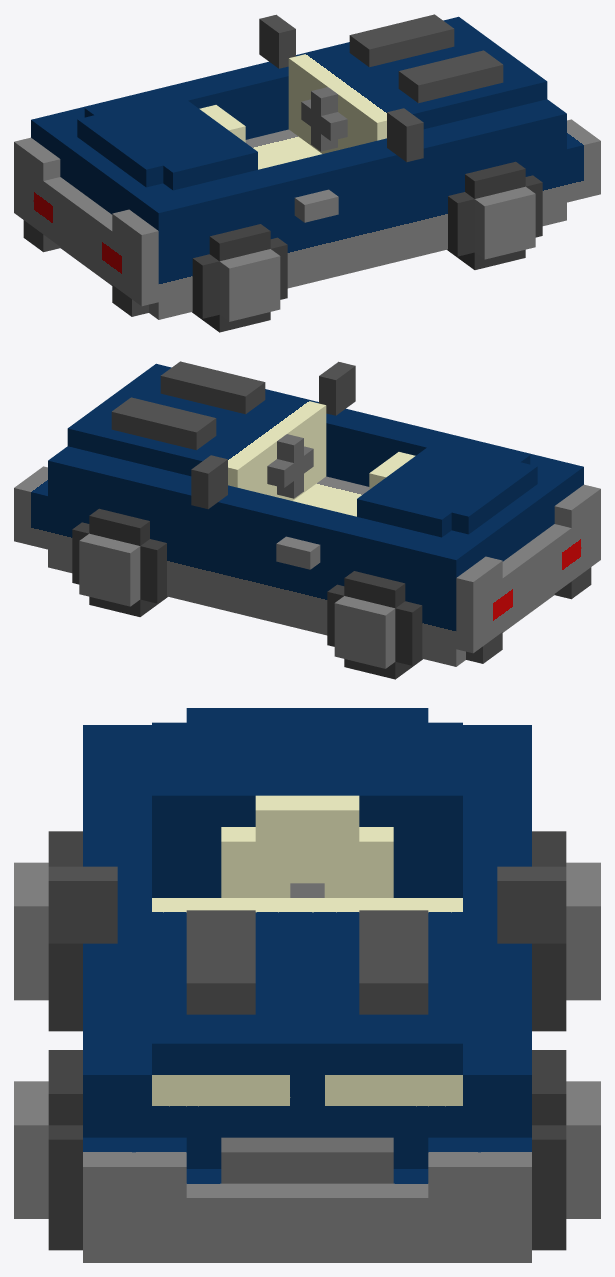
Rendered from veh_car2c.dae.
The picture shows the model from 3 angles, top to bottom: view 1: azimuth 30°, elevation 25°; view 2: azimuth 150°, elevation 25°; view 3: azimuth 270°, elevation 25°; orthographic projection. The views are drawn at different scales.
Parts seen in each view (by area): view 1: veh_car2c; view 2: veh_car2c; view 3: veh_car2c.
Part boxes in pixels (x1=…): veh_car2c: x1=14, y1=14, x2=600, y2=332; veh_car2c: x1=14, y1=361, x2=600, y2=679; veh_car2c: x1=14, y1=708, x2=600, y2=1262.
Bounding box in the file's own units: 2.7 × 1.7 × 0.9.
1 material, 1 textured.
